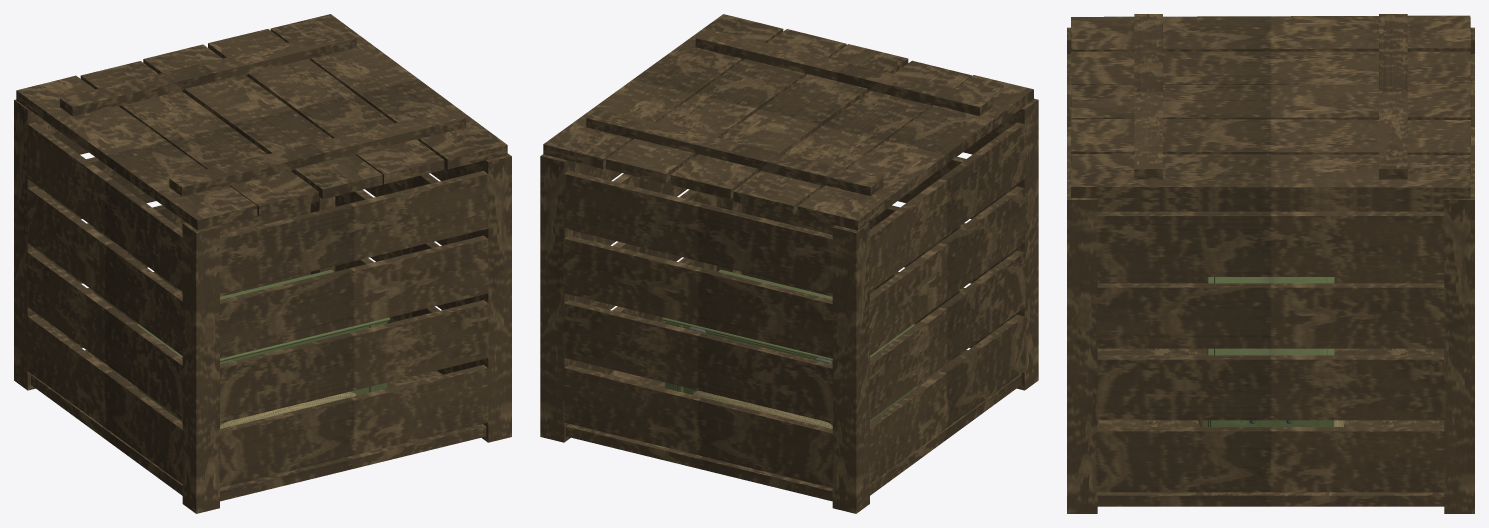
Rendered from props.glb.
3 renders of one model, left to right at view 1: azimuth 30°, elevation 25°; view 2: azimuth 150°, elevation 25°; view 3: azimuth 270°, elevation 25°, orthographic. The views are drawn at different scales.
Visible parts, largest first — view 1: Kist_Hout, Kist_Munitie; view 2: Kist_Hout, Kist_Munitie, Zandzak1; view 3: Kist_Hout, Kist_Munitie.
Boxes of the visible parts, bbox=[...] form: Kist_Hout: bbox=[14, 14, 511, 513]; Kist_Munitie: bbox=[137, 269, 390, 425]; Kist_Hout: bbox=[540, 14, 1038, 513]; Kist_Munitie: bbox=[662, 269, 915, 425]; Zandzak1: bbox=[693, 392, 832, 428]; Kist_Hout: bbox=[1067, 14, 1474, 513]; Kist_Munitie: bbox=[1207, 277, 1334, 426].
Bounding box in the file's own units: 1 × 1 × 1.
6 materials, 6 textured.
